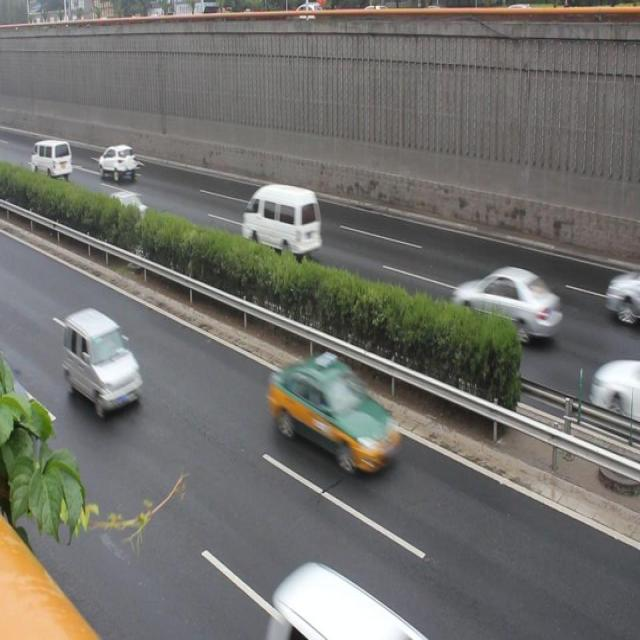car: (266, 350, 398, 483), (264, 552, 432, 640), (450, 258, 558, 345), (63, 309, 148, 416), (582, 351, 640, 429), (101, 184, 151, 234)
truck: (241, 178, 319, 260), (599, 264, 640, 337)
